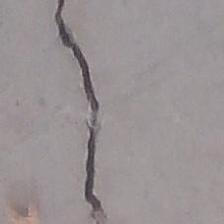Crack: (44, 0, 160, 224)
